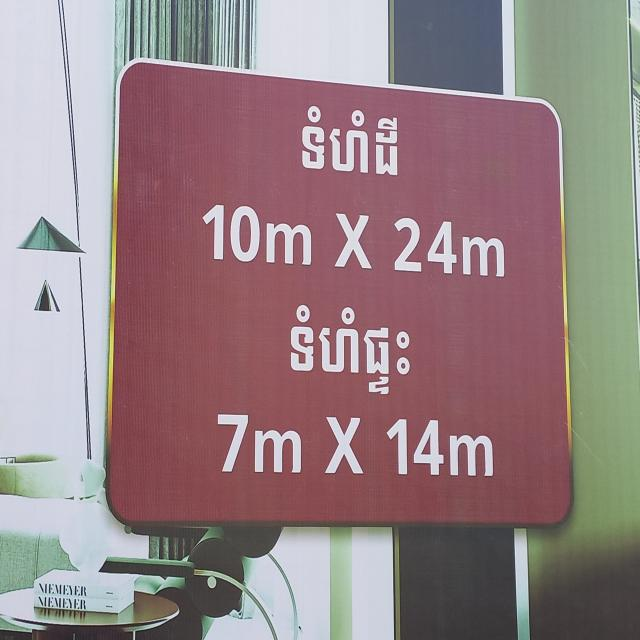527: (191, 196, 266, 272)
583: (380, 407, 448, 489)
666: (387, 209, 457, 282)
819: (205, 404, 253, 486)
Yolov11_80vkh: (277, 302, 423, 396), (299, 101, 400, 177)
